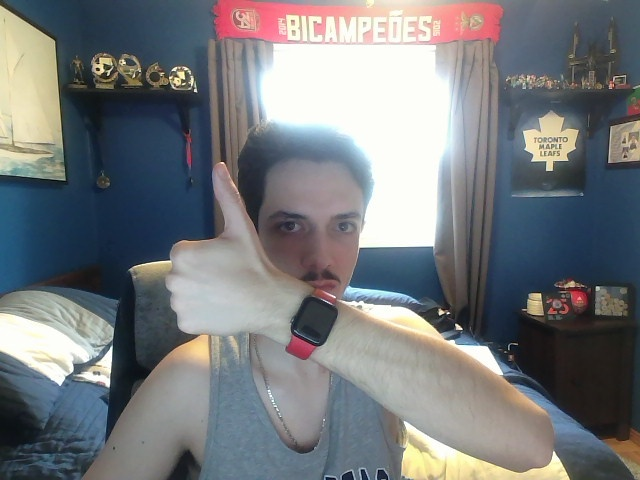ThumbsUp: (163, 162, 277, 339)
